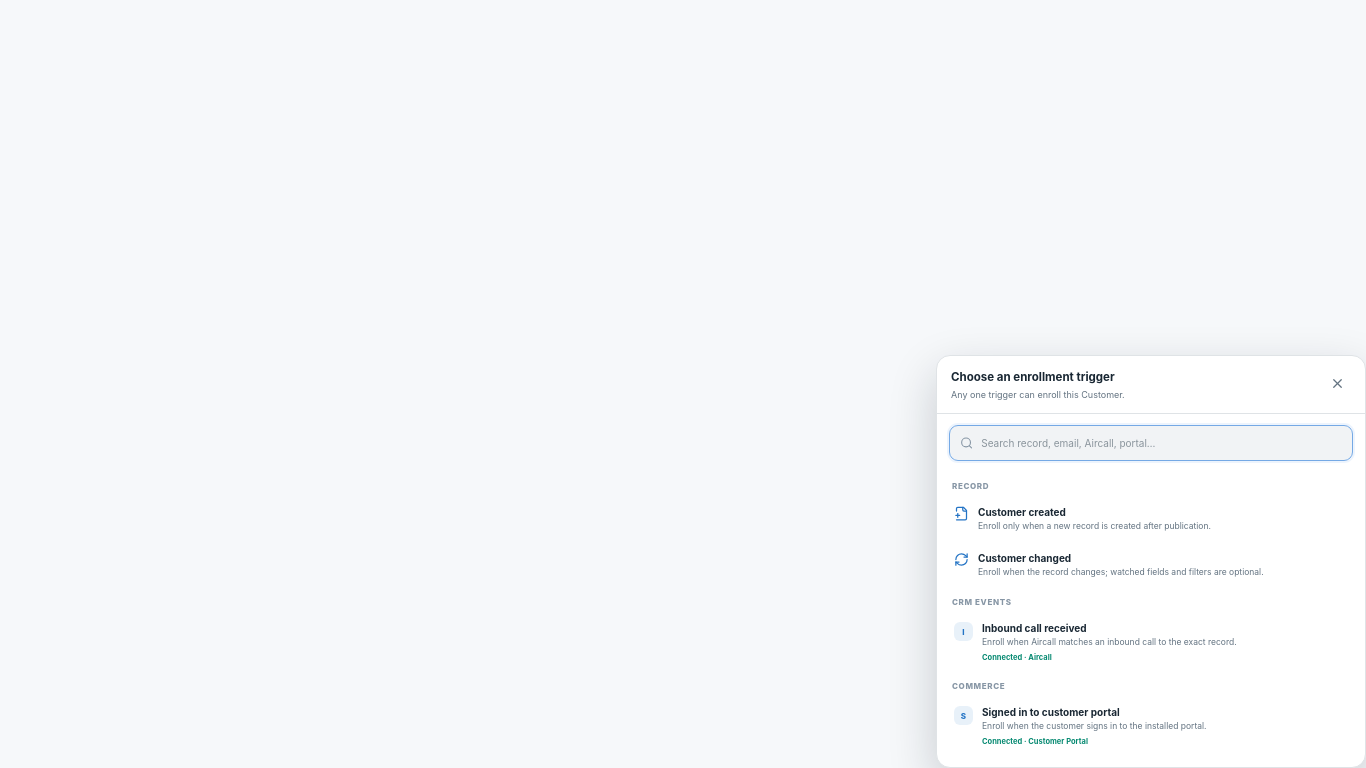
Test: EnrollmentTriggerChooser › searches labels, descriptions, categories, and installed source apps
(page scrolled)
Type "Aircall" into the field named "Search enrollment triggers" at (1162, 443), box 981,426 -> 1342,460
(page scrolled)
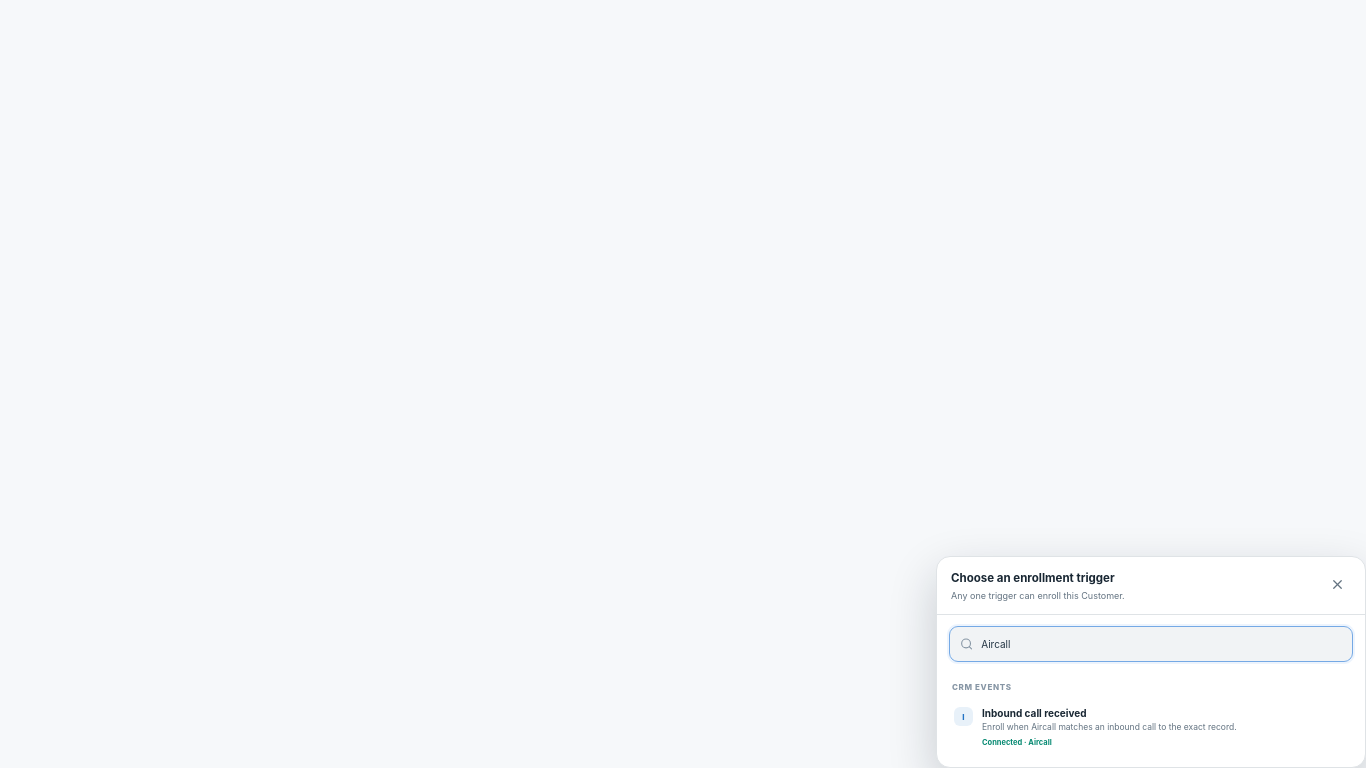
expect the button "Inbound call received" is shown: met, box 945,697 -> 1357,757
expect the button "Signed in to customer portal" is gone: met
expect the button "Customer created" is gone: met
